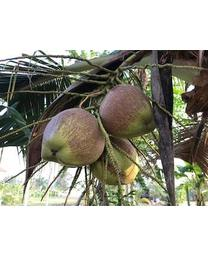coconut: (40, 110, 105, 166), (102, 83, 156, 142), (88, 134, 140, 191)
